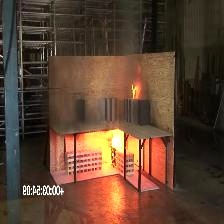fire: (98, 78, 146, 159)
